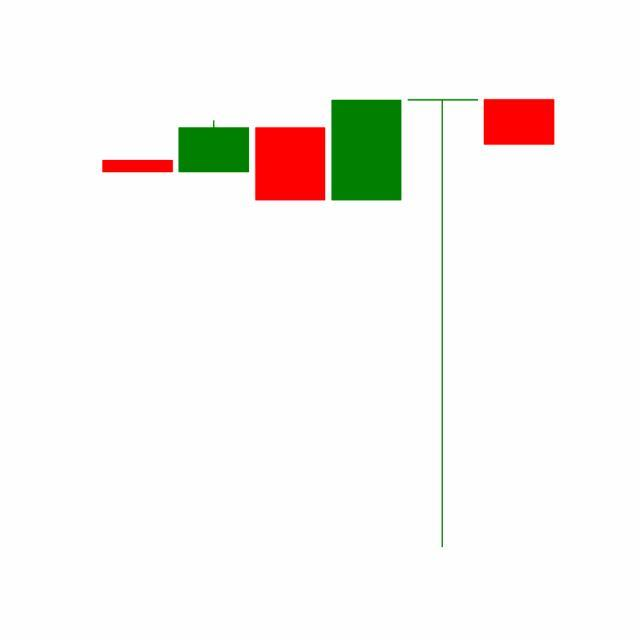Hammer: (404, 95, 482, 553)
